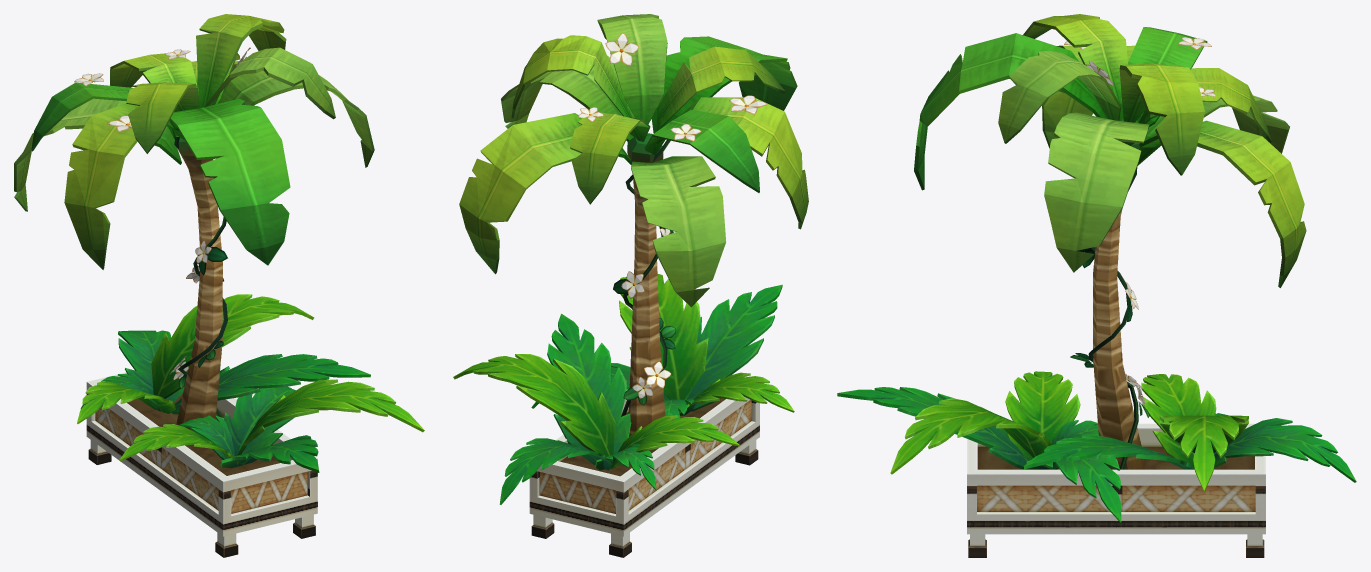
Rendered from my_sunshineresort_01_plantpot_03.glb.
3 renders of one model, left to right at view 1: azimuth 30°, elevation 25°; view 2: azimuth 150°, elevation 25°; view 3: azimuth 270°, elevation 25°, orthographic. The views are drawn at different scales.
Parts seen in each view (by area): view 1: my_sunshineresort_01_plantpot_03; view 2: my_sunshineresort_01_plantpot_03; view 3: my_sunshineresort_01_plantpot_03.
Boxes of the visible parts, left/top/right/bottom form: my_sunshineresort_01_plantpot_03: left=14, top=14, right=424, bottom=557; my_sunshineresort_01_plantpot_03: left=453, top=14, right=808, bottom=557; my_sunshineresort_01_plantpot_03: left=837, top=14, right=1356, bottom=557.
Bounding box in the file's own units: 0.0117 × 0.0172 × 0.0163.
1 material, 1 textured.
